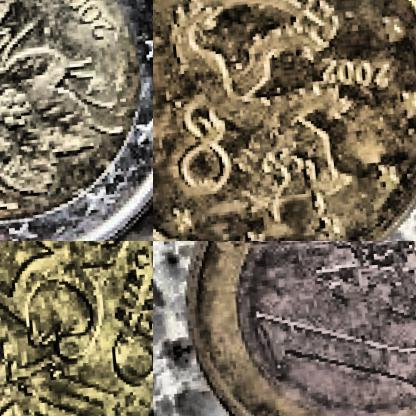coin: (153, 0, 415, 240), (172, 241, 415, 415), (0, 0, 152, 240), (0, 241, 152, 415)
